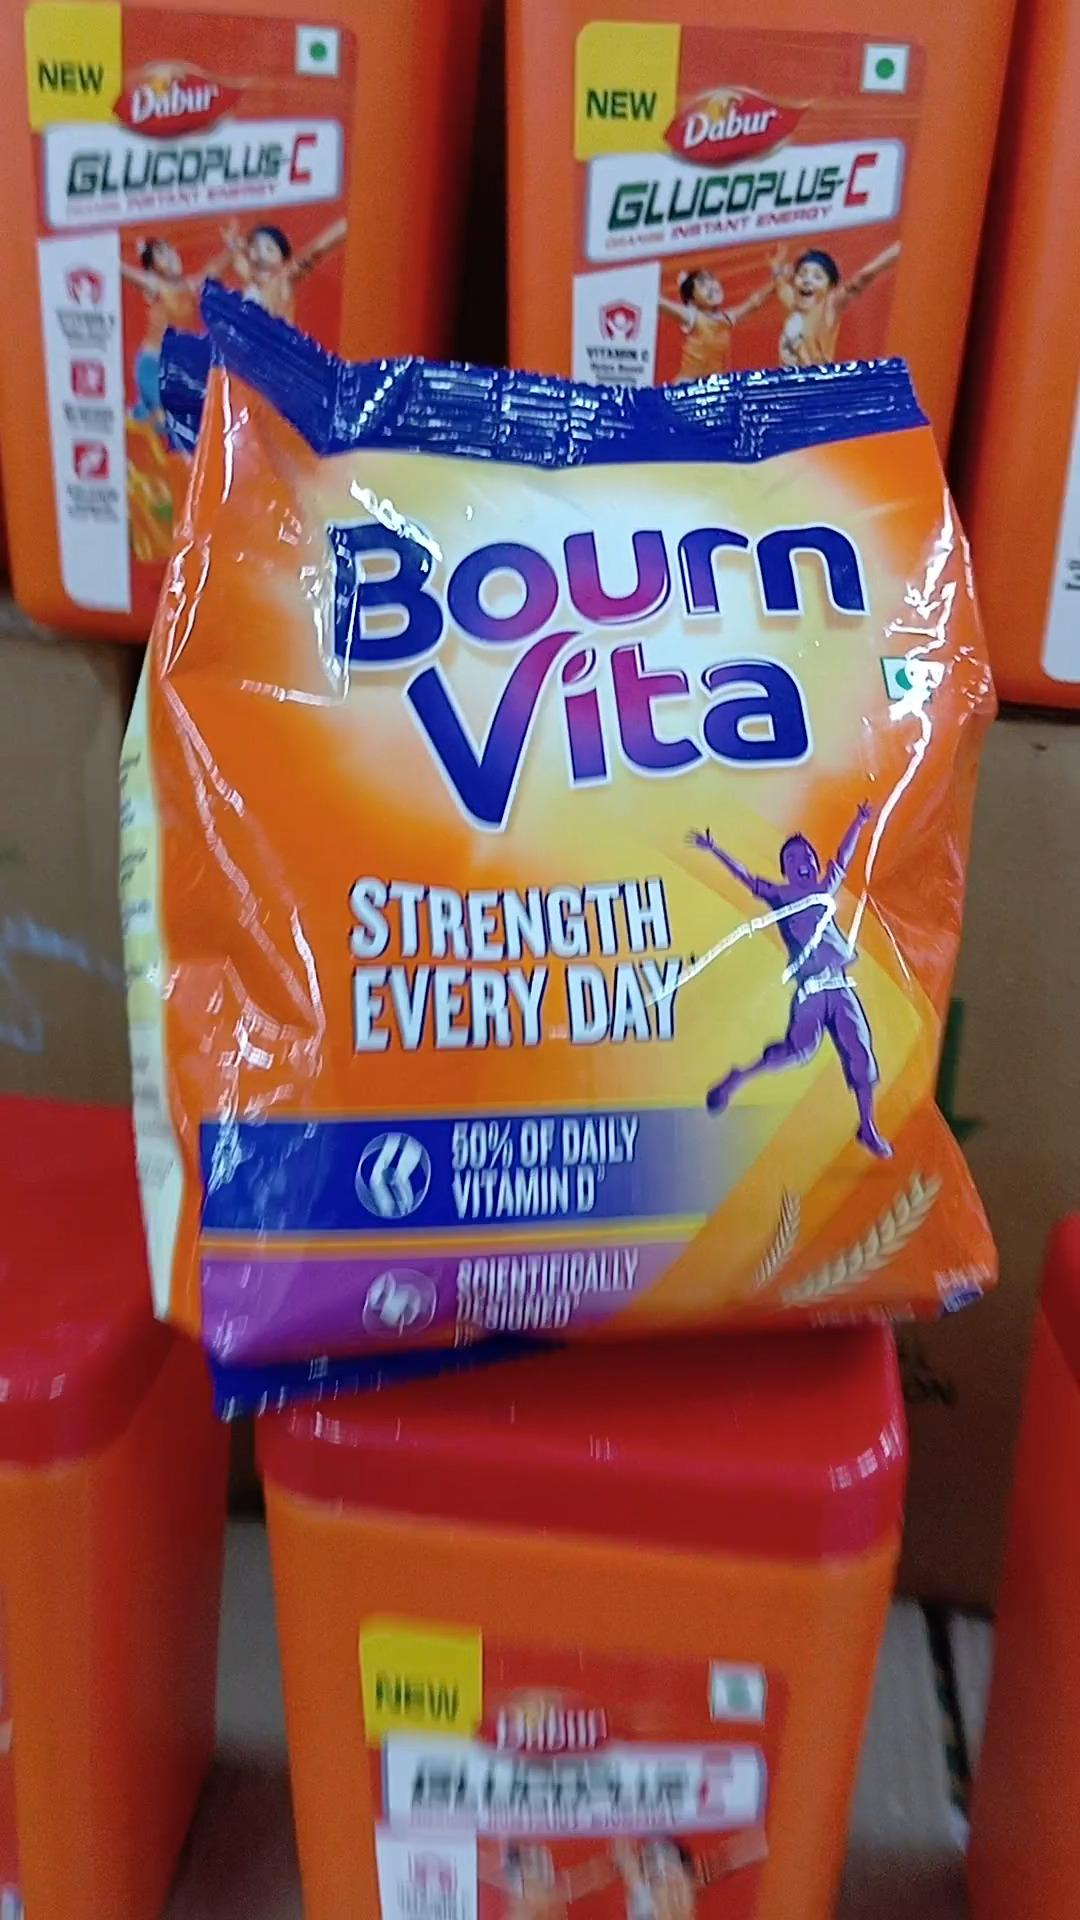BOURN_VITA_500_G_POUCH: (165, 305, 988, 1329)
